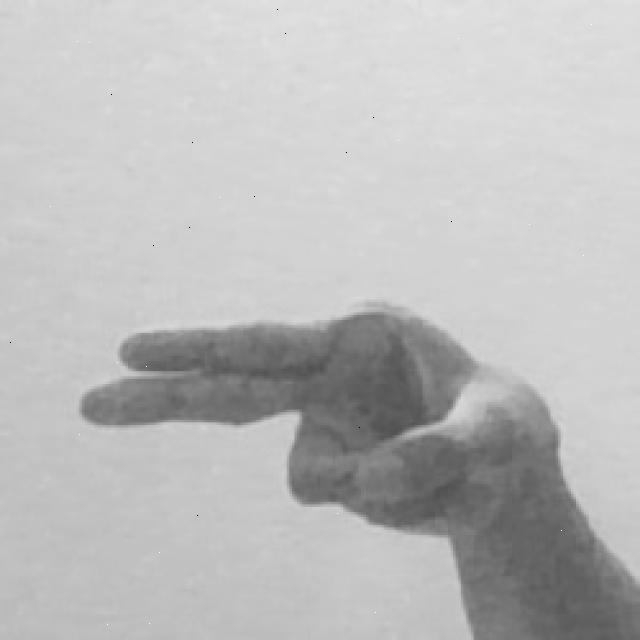H: (71, 291, 640, 637)
